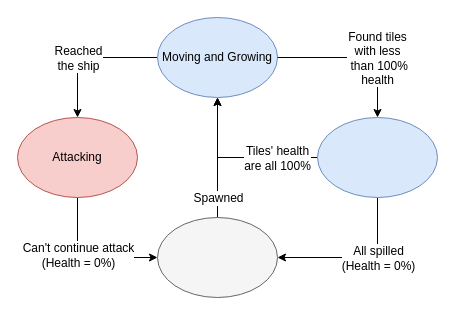
This 455x315 diagram has some shape labels left out. The centre of each missing label's shape, as x and y in pixels:
"Pooled" goes at pixel 217 257.
"Spilling" goes at pixel 377 157.
